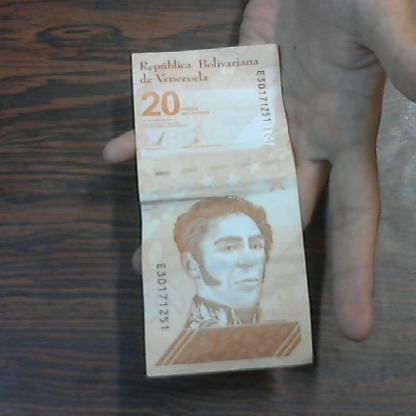twenty-front-vef: (132, 46, 314, 377)
